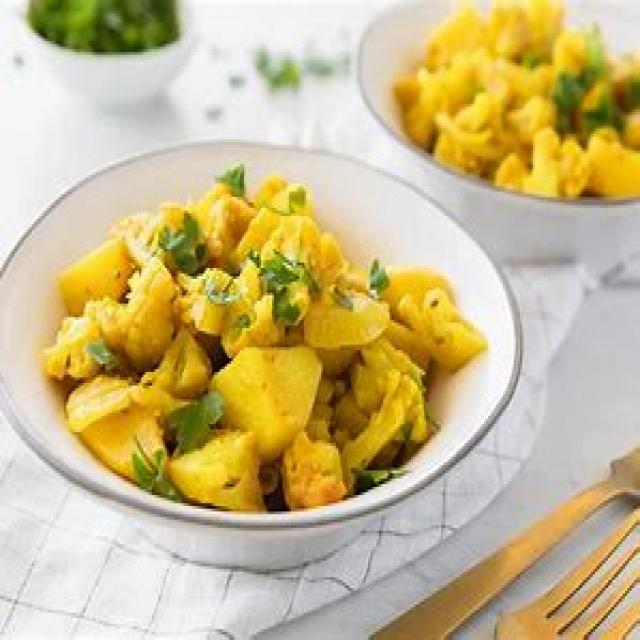Aloo Gobi: (59, 180, 468, 510)
